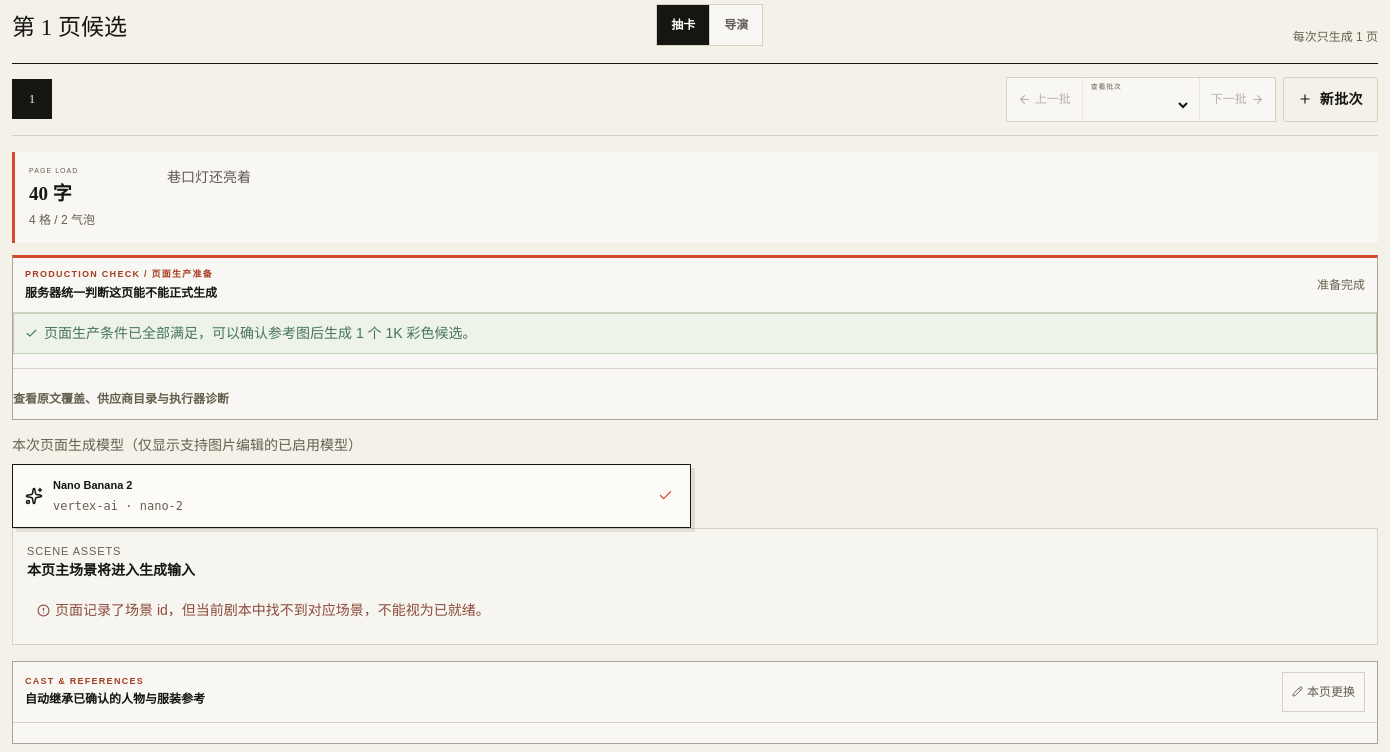
Test: GenerateSection 关键行为 › #649 新批次在途时生成按钮禁用（防交错点击双开批次），结束后恢复
Click the button "新批次". click: [1330, 99]
box: [1283,76,1378,122]
(page scrolled)
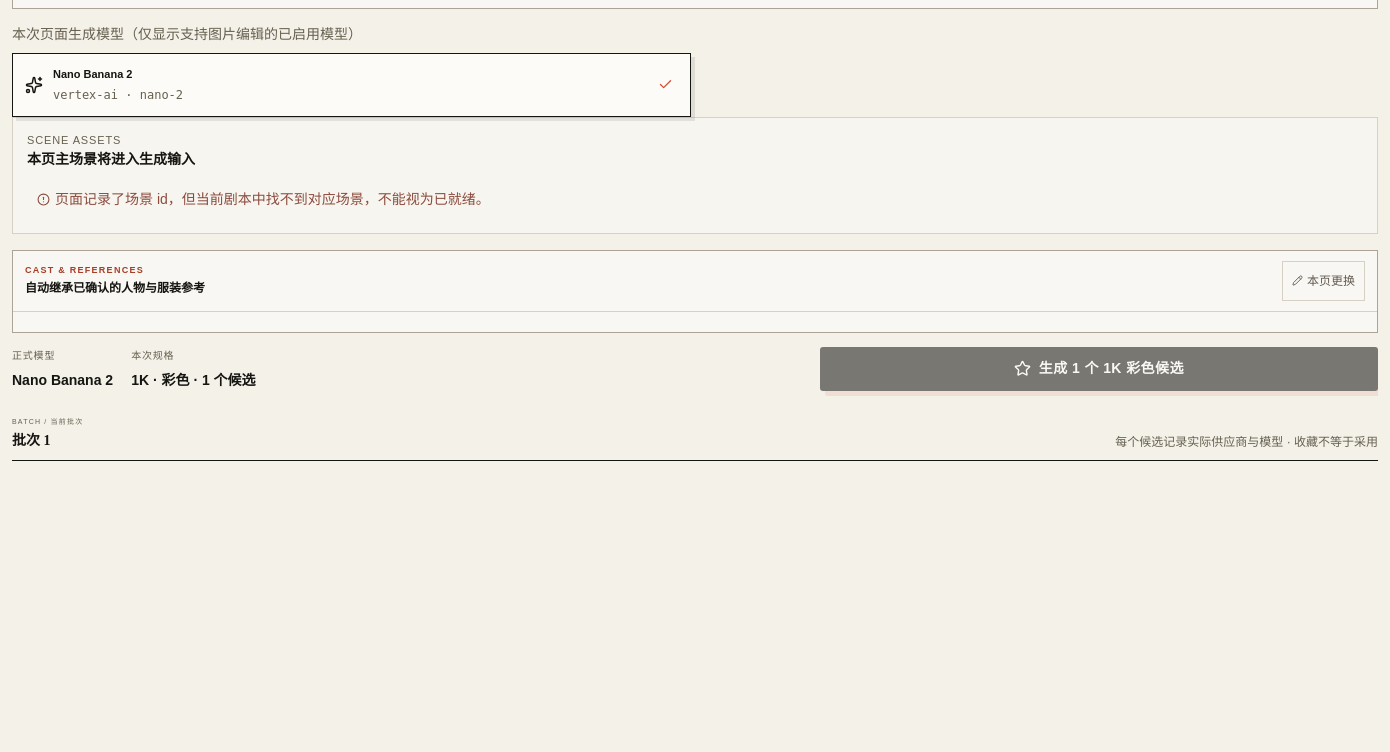
expect the button "生成 1 个 1K 彩色候选" is disabled: met
Click the button "生成 1 个 1K 彩色候选". click: [1099, 368]
box: [820,346,1378,390]
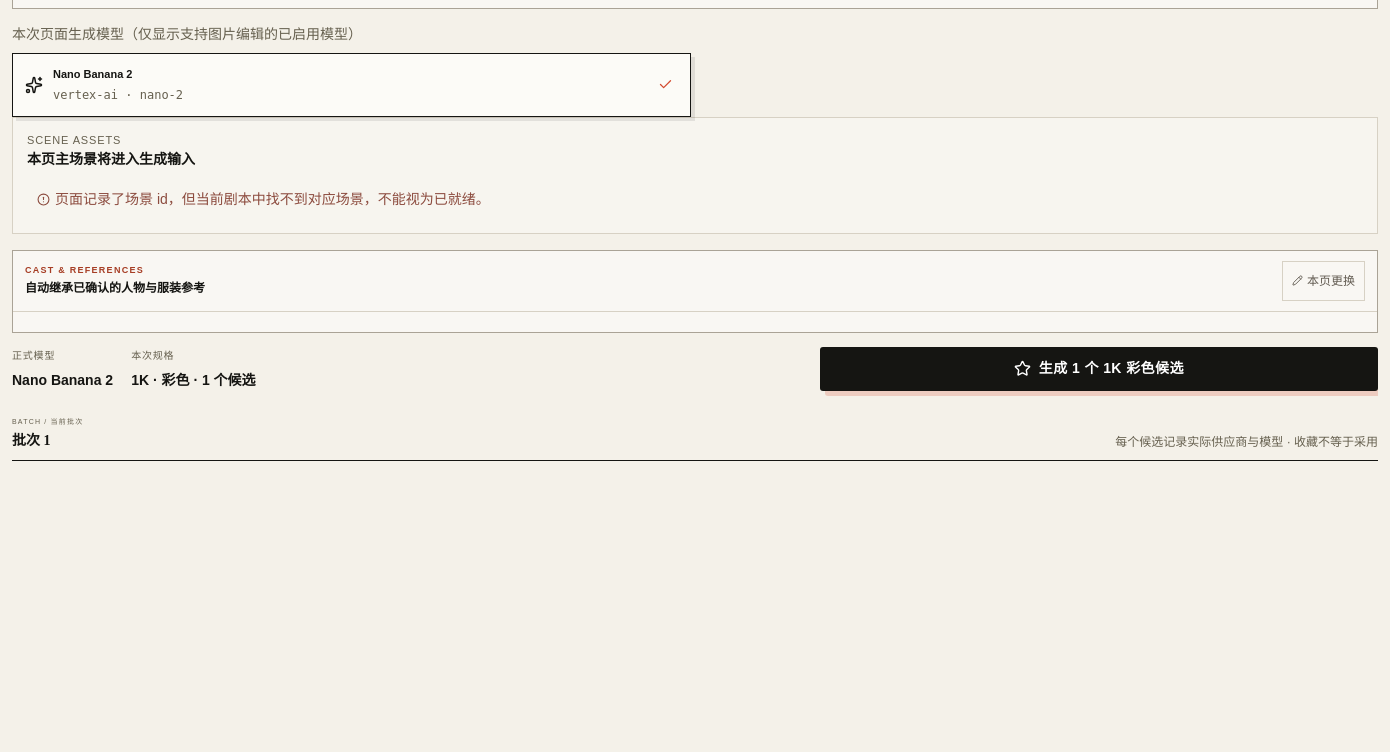
expect the button "生成 1 个 1K 彩色候选" is enabled: met, box [820,346,1378,390]
